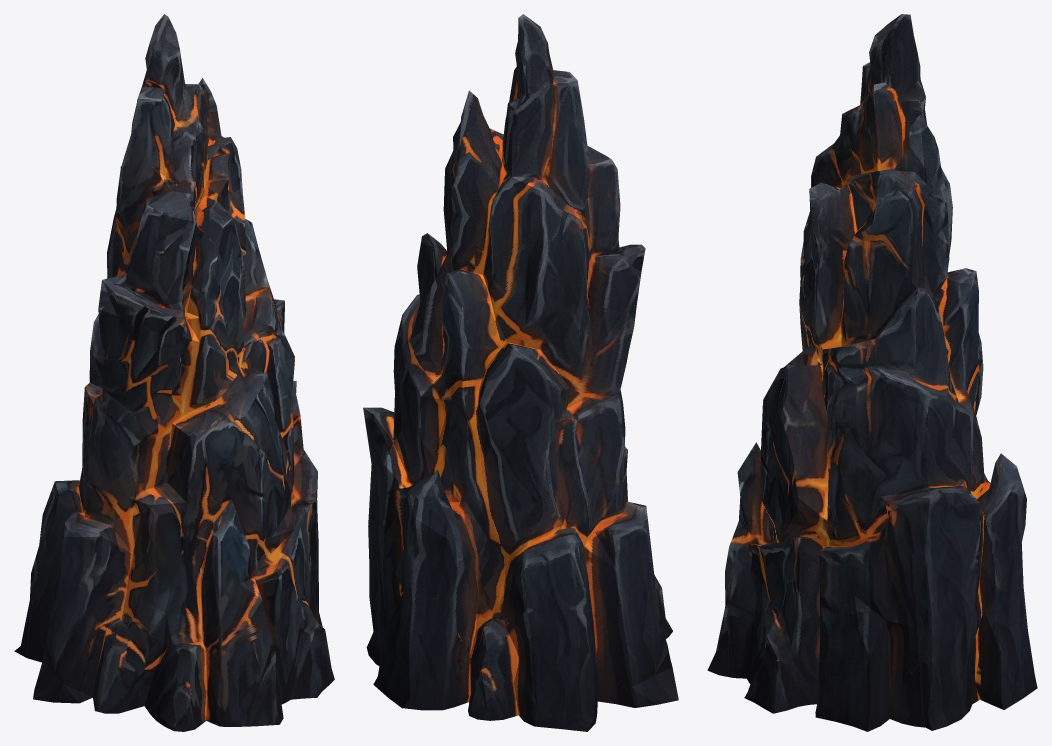
The model's file is obsidian.glb.
The picture shows the model from 3 angles, left to right: view 1: azimuth 30°, elevation 25°; view 2: azimuth 150°, elevation 25°; view 3: azimuth 270°, elevation 25°; orthographic projection. The views are drawn at different scales.
Visible parts, largest first — view 1: Mesh; view 2: Mesh; view 3: Mesh.
Part boxes in pixels (x1,y1,x2,y2): Mesh: [14, 14, 334, 731]; Mesh: [363, 14, 678, 731]; Mesh: [707, 14, 1037, 731].
Bounding box in the file's own units: 0.4658 × 0.9976 × 0.4601.
Materials: 1 (1 with a texture image).
